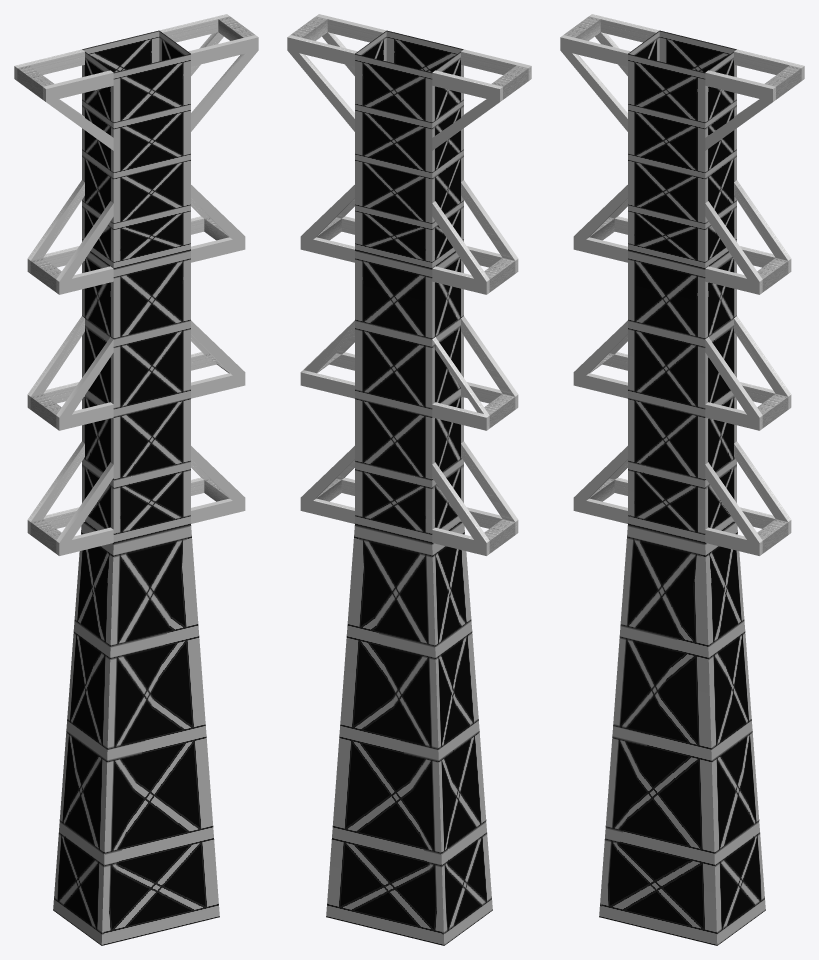
Rendered from steeltower.fbx.
The picture shows the model from 3 angles, left to right: view 1: azimuth 30°, elevation 25°; view 2: azimuth 150°, elevation 25°; view 3: azimuth 330°, elevation 25°; orthographic projection.
Parts seen in each view (by area): view 1: steeltower; view 2: steeltower; view 3: steeltower.
Boxes of the visible parts, bbox=[...] form: steeltower: bbox=[14, 14, 258, 945]; steeltower: bbox=[287, 14, 531, 945]; steeltower: bbox=[560, 14, 804, 945].
Size of the model in its own units: 29.59 by 115 by 11.72.
